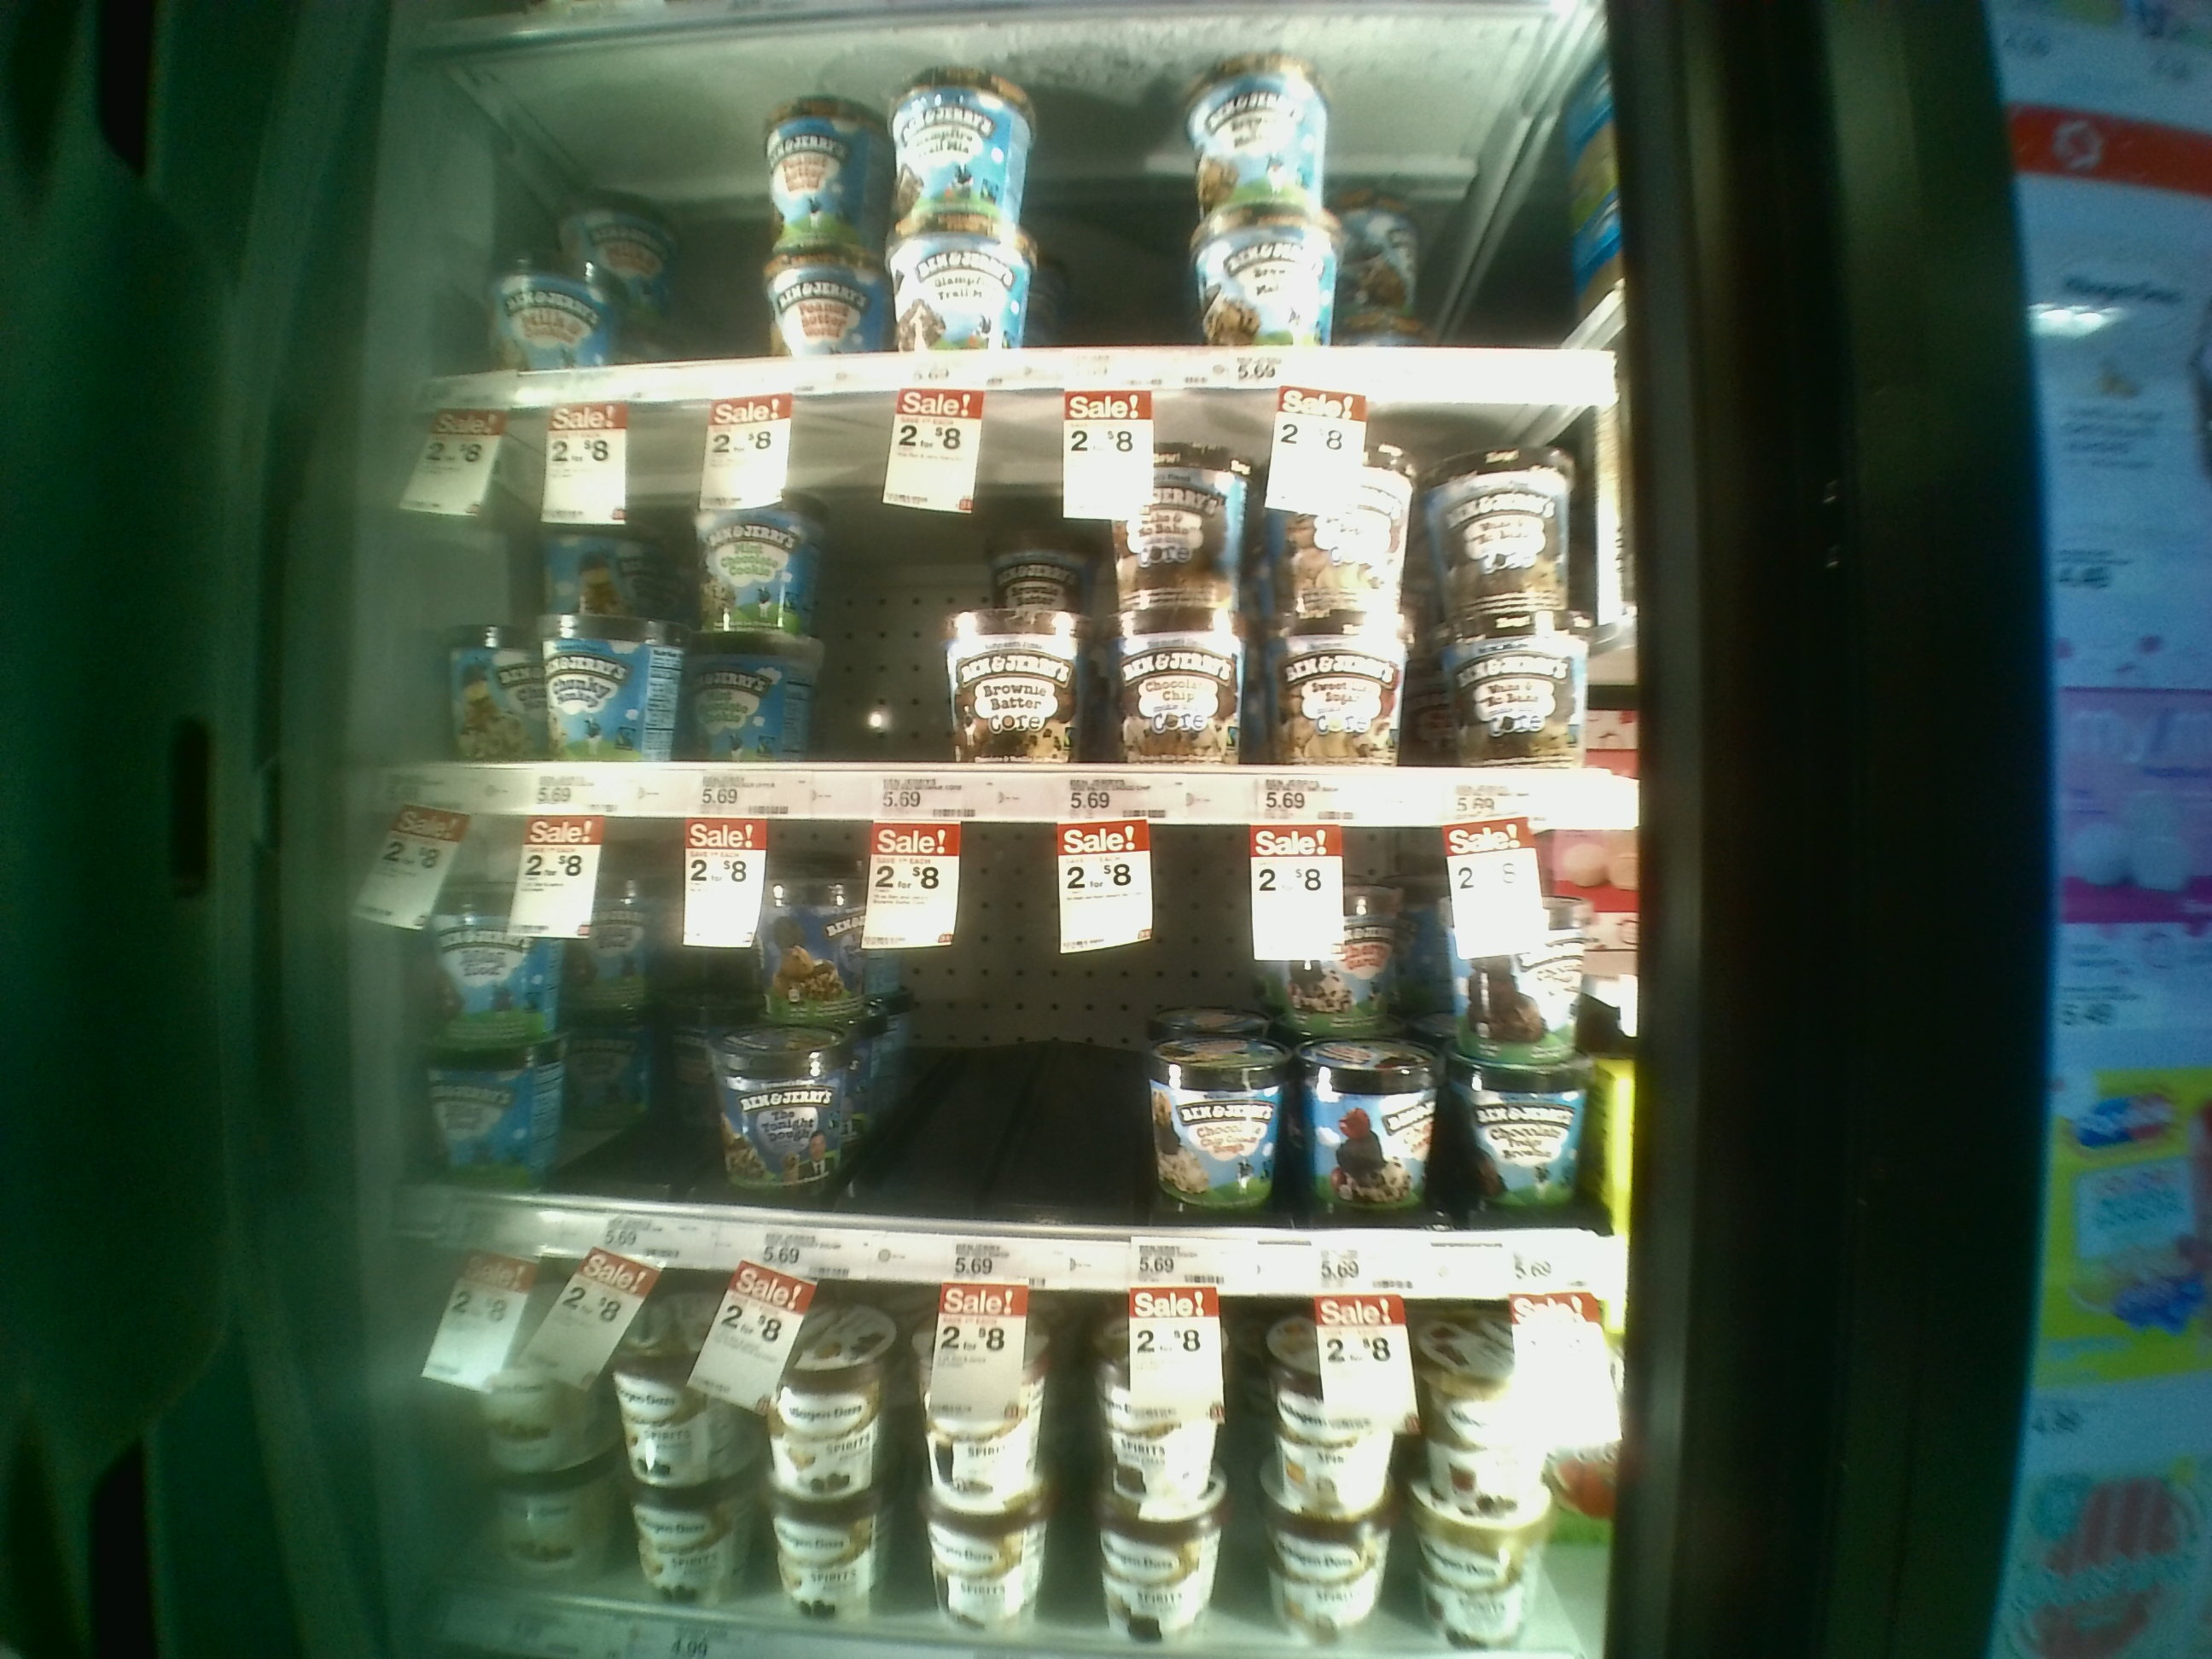shelf: (380, 823, 1635, 1293), (374, 420, 1635, 819)
